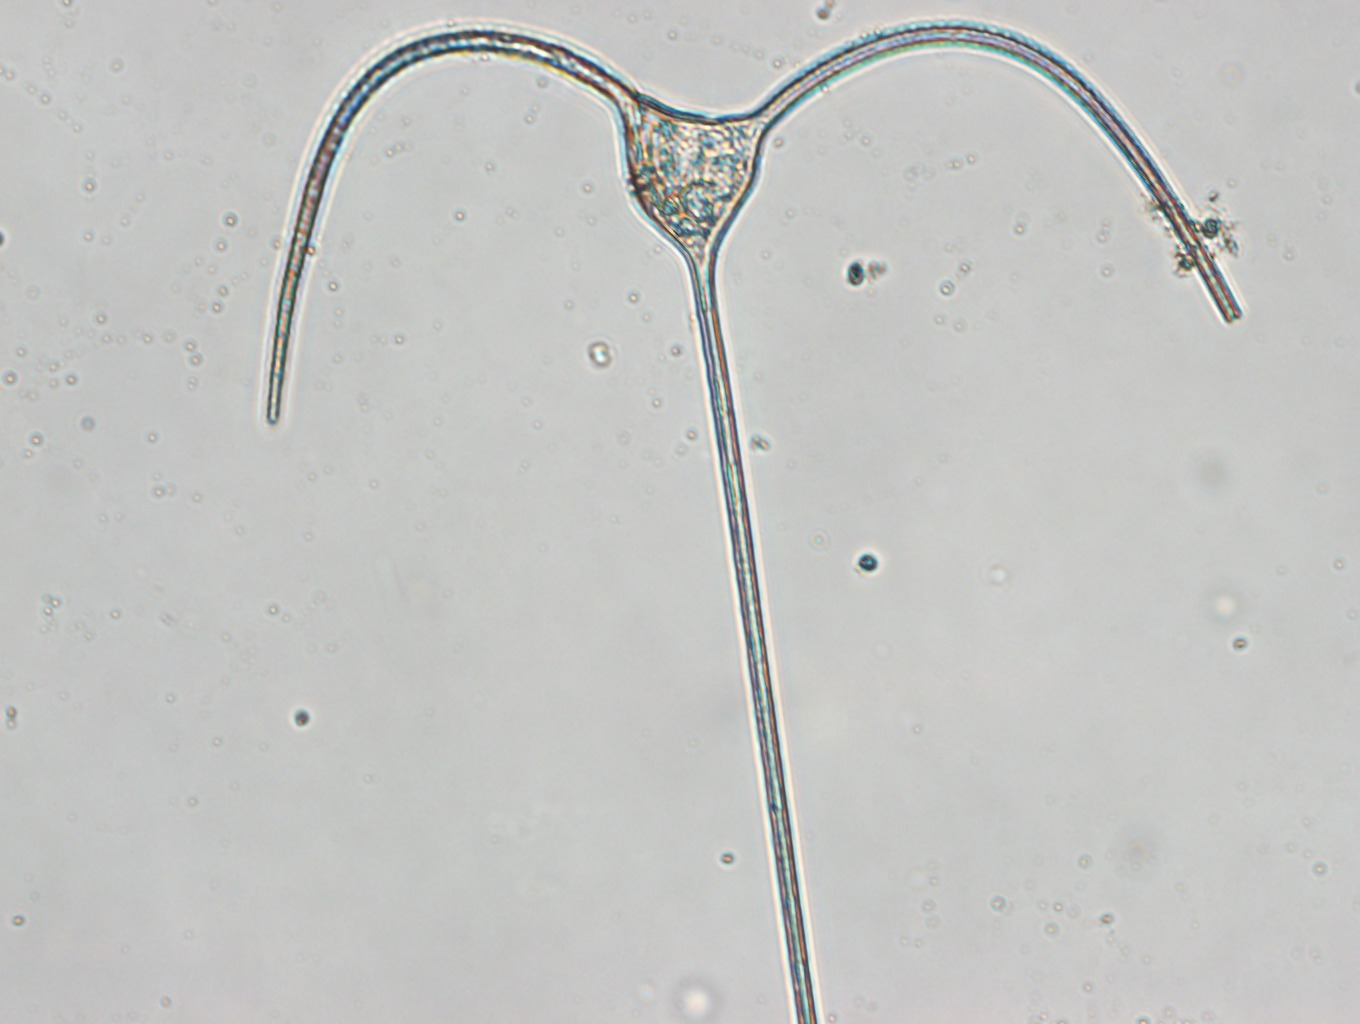ceratium trichoceros: (263, 19, 1244, 1024)
